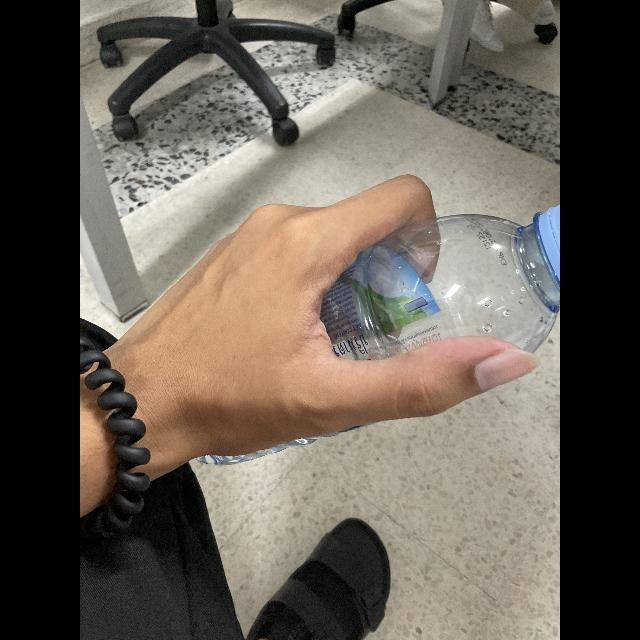plastic_bottle: (192, 202, 560, 466)
plastic_bottle_cap: (532, 203, 560, 289)
